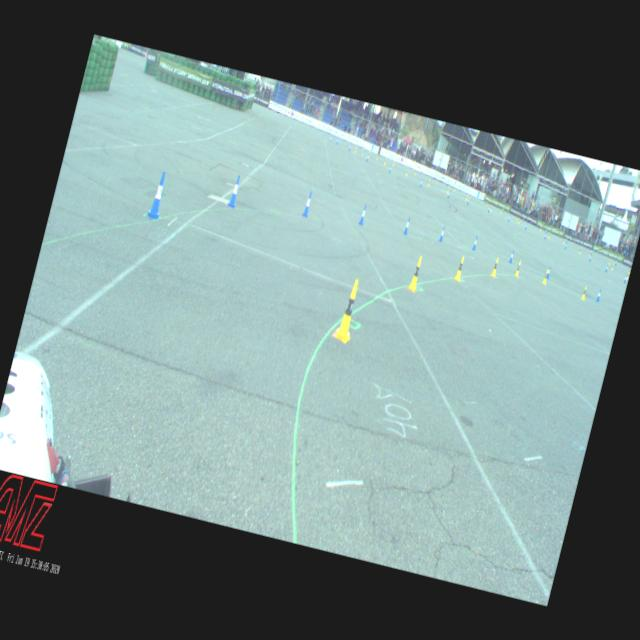blue_cone: (146, 170, 169, 220), (227, 175, 242, 208), (302, 191, 313, 216), (358, 203, 368, 226), (403, 216, 411, 233), (439, 225, 445, 241), (472, 236, 478, 250), (546, 266, 552, 279), (596, 288, 601, 301), (509, 250, 514, 262), (623, 274, 627, 283), (388, 165, 392, 172), (588, 254, 592, 261), (447, 190, 450, 198), (524, 222, 527, 230), (507, 214, 510, 222), (419, 180, 422, 187), (487, 205, 490, 212), (605, 265, 608, 272), (466, 197, 469, 204), (336, 138, 339, 145), (614, 259, 617, 266), (564, 242, 567, 248), (366, 154, 368, 161), (544, 232, 546, 238), (348, 144, 350, 150), (590, 248, 592, 254), (565, 236, 567, 242), (544, 228, 546, 234), (522, 216, 524, 222), (484, 198, 486, 204), (418, 170, 421, 174), (363, 146, 365, 152), (336, 138, 338, 144), (446, 181, 448, 186), (431, 175, 433, 180), (330, 136, 332, 140), (329, 136, 331, 140), (502, 208, 503, 212)
yellow_cone: (334, 278, 362, 341), (408, 254, 424, 292), (454, 256, 465, 282), (490, 256, 499, 276), (514, 261, 522, 277), (542, 268, 548, 284), (580, 285, 586, 299), (628, 266, 632, 274), (610, 263, 614, 270), (464, 193, 468, 200), (517, 216, 520, 224), (405, 168, 408, 176), (578, 246, 581, 254), (626, 272, 629, 280), (588, 248, 591, 256), (427, 179, 430, 186), (547, 231, 550, 238), (446, 185, 449, 192), (608, 258, 611, 264), (414, 168, 416, 176), (485, 200, 487, 207), (384, 158, 386, 165), (490, 204, 492, 210), (563, 238, 565, 244), (434, 178, 436, 184), (540, 225, 542, 231), (516, 214, 518, 220), (468, 192, 470, 198), (392, 160, 394, 166), (376, 154, 378, 160), (368, 152, 370, 158), (355, 146, 357, 152), (500, 208, 502, 213), (362, 150, 364, 155), (354, 146, 356, 151), (454, 186, 456, 190)
